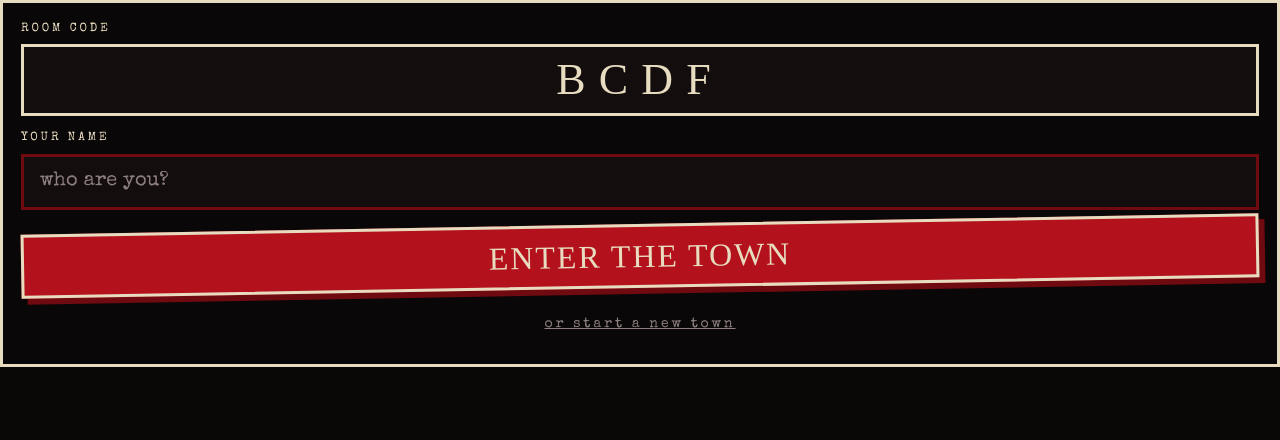
Test: JoinForm › requires a name
This screenshot has width=1280, height=440.
Click the button "ENTER THE TOWN" at (640, 256), box [20,213,1259,299]
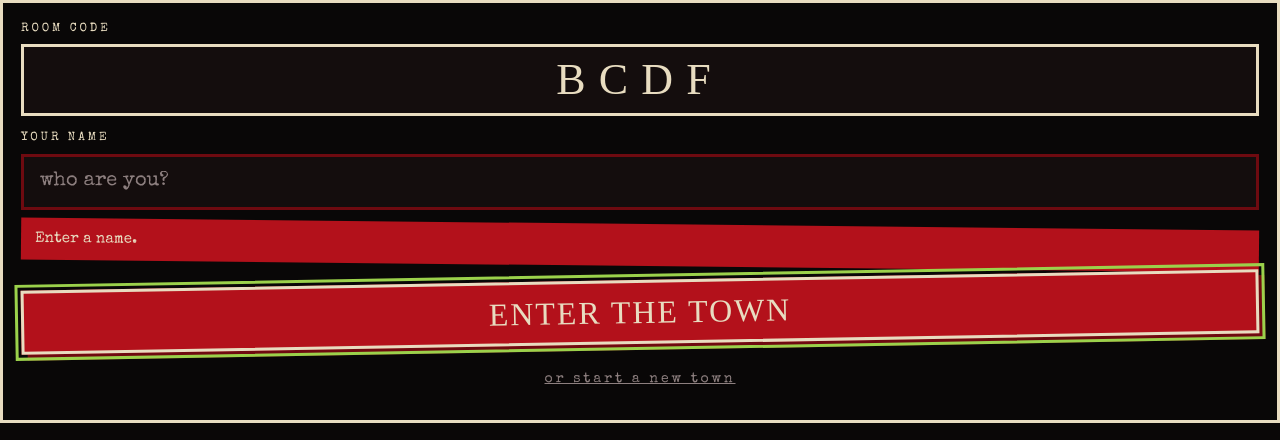
Expected: the message reads "Enter a name.", [35,230,137,246]
